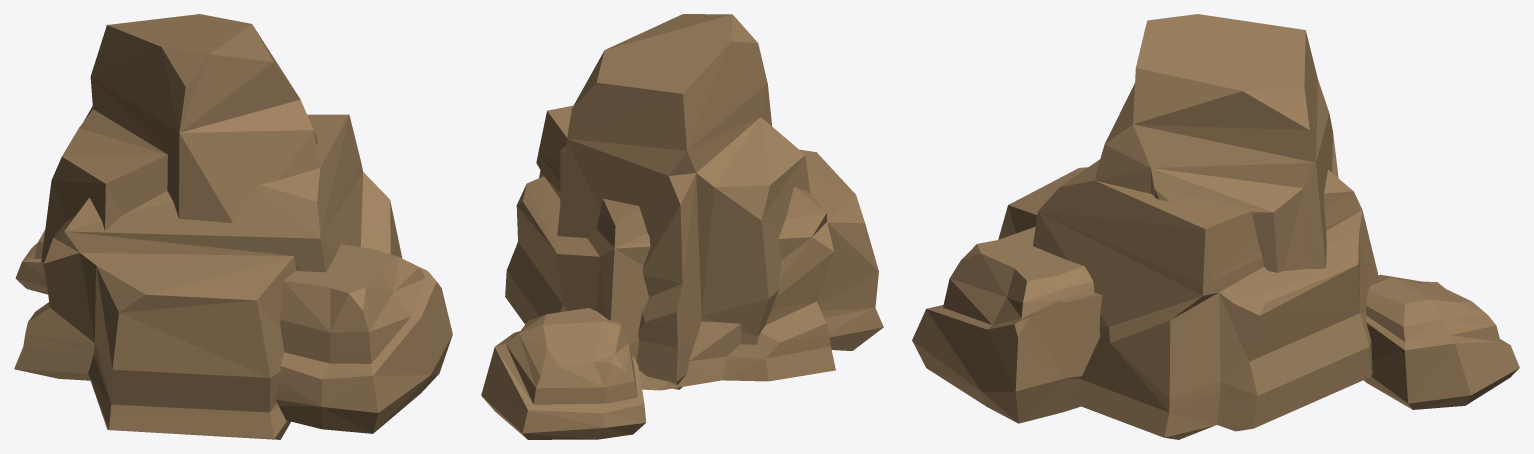
Rendered from SM_Env_RockPile_02.gltf.
3 views of the same model, side by side, from view 1: azimuth 30°, elevation 25°; view 2: azimuth 150°, elevation 25°; view 3: azimuth 270°, elevation 25° (orthographic). The views are drawn at different scales.
Parts seen in each view (by area): view 1: SM_Env_RockPile_02; view 2: SM_Env_RockPile_02; view 3: SM_Env_RockPile_02.
Boxes of the visible parts, bbox=[...] form: SM_Env_RockPile_02: bbox=[14, 14, 452, 439]; SM_Env_RockPile_02: bbox=[481, 14, 883, 439]; SM_Env_RockPile_02: bbox=[912, 14, 1519, 439].
Size of the model in its own units: 6.32 by 5.6 by 8.94.
1 material, 1 textured.
